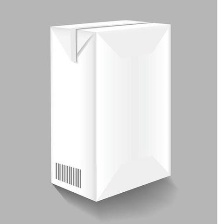carton: (44, 14, 178, 202)
